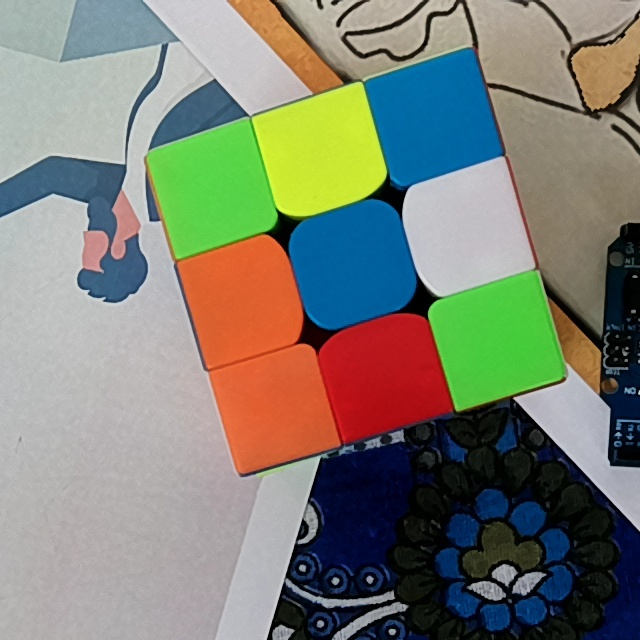tile: (453, 296, 542, 385), (389, 73, 480, 160), (280, 108, 366, 198), (308, 222, 397, 307), (199, 257, 286, 343), (428, 183, 512, 272), (340, 333, 427, 416), (173, 144, 254, 230), (233, 366, 316, 449)
